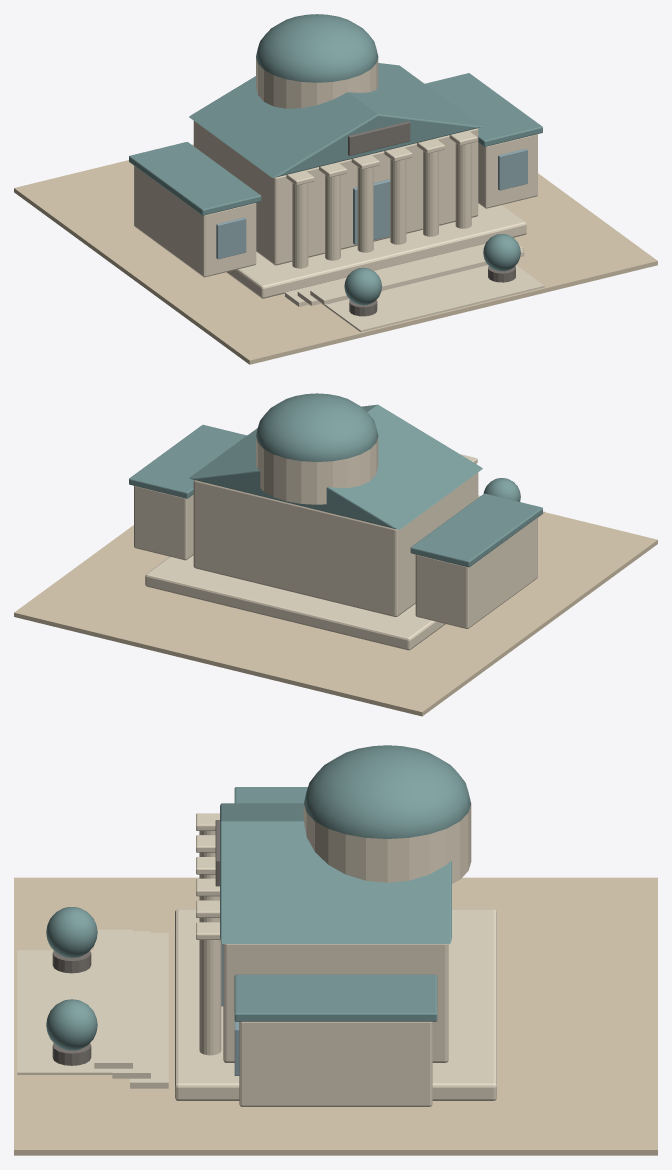
The model's file is culture.glb.
3 renders of one model, top to bottom at view 1: azimuth 30°, elevation 25°; view 2: azimuth 150°, elevation 25°; view 3: azimuth 270°, elevation 25°, orthographic. The views are drawn at different scales.
Visible parts, largest first — view 1: Ground, Pediment, Hall, Base, Dome, WingL, Plaza, WingRoofL, WingRoofR, Drum, WingR, Step2 (+14 smaller); view 2: Ground, Hall, Pediment, Base, WingL, Dome, WingRoofL, Drum, WingRoofR, WingR, Bush0; view 3: Ground, Pediment, WingR, Base, Dome, WingRoofR, Hall, Drum, Plaza, Step2, Step0, Step1 (+6 smaller).
Boxes of the visible parts, box(x1,y1,x2,y2) form: Ground: box(14, 144, 657, 364); Pediment: box(189, 63, 482, 177); Hall: box(193, 121, 478, 265); Base: box(226, 203, 526, 298); Dome: box(256, 14, 378, 82); WingL: box(134, 166, 256, 277); Plaza: box(322, 265, 544, 332); WingRoofL: box(129, 142, 261, 215); WingRoofR: box(425, 73, 542, 146); Drum: box(256, 58, 378, 108); WingR: box(478, 134, 537, 208); Step2: box(310, 248, 524, 304); Ground: box(14, 512, 657, 716); Hall: box(193, 472, 478, 616); Pediment: box(189, 404, 482, 529); Base: box(145, 555, 445, 650); WingL: box(415, 517, 537, 628); Dome: box(256, 393, 378, 461); WingRoofL: box(410, 493, 542, 567); Drum: box(256, 437, 378, 504); WingRoofR: box(129, 424, 246, 498); WingR: box(134, 486, 193, 560); Bush0: box(483, 478, 520, 501); Ground: box(14, 877, 657, 1155); Pediment: box(220, 803, 451, 943); WingR: box(239, 1021, 432, 1106); Base: box(175, 909, 496, 1100); Dome: box(304, 745, 471, 838); WingRoofR: box(234, 974, 437, 1021); Hall: box(223, 944, 448, 1062); Drum: box(303, 804, 471, 883); Plaza: box(17, 950, 112, 1074); Step2: box(94, 929, 132, 1068); Step0: box(130, 933, 168, 1088); Step1: box(112, 931, 150, 1078).
Bounding box in the file's own units: 20 × 9.01 × 20.
